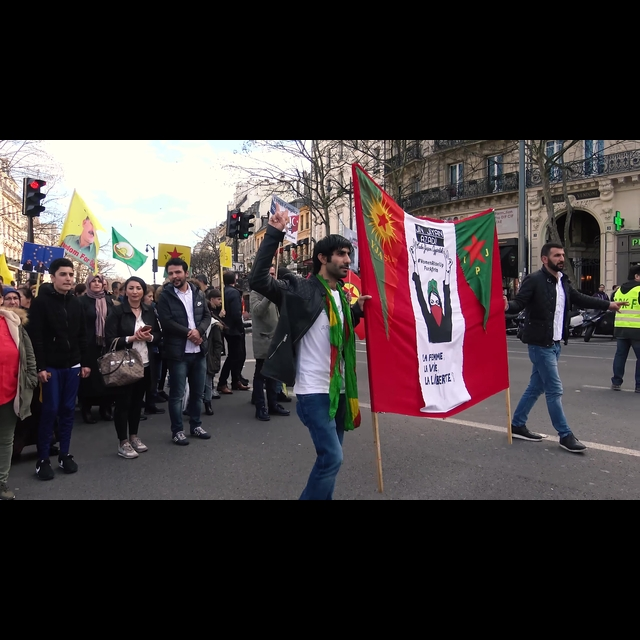YPJ: (460, 231, 492, 281)
